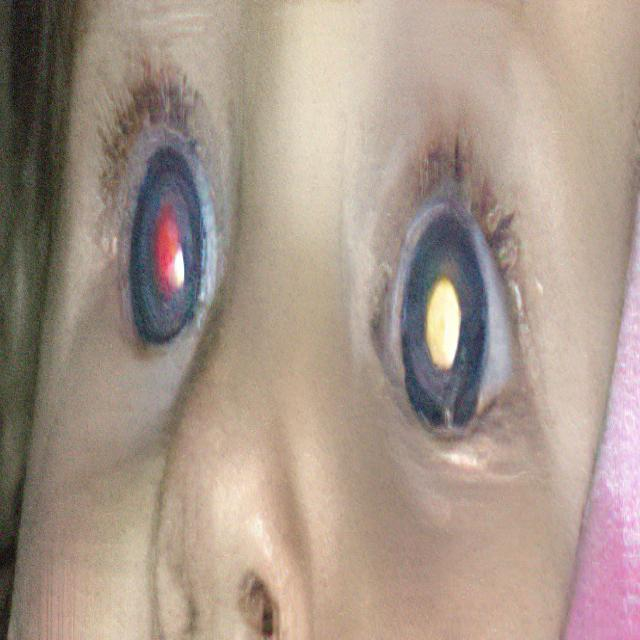reflexo-alterado: (371, 154, 540, 487)
reflexo-normal: (91, 87, 235, 388)
